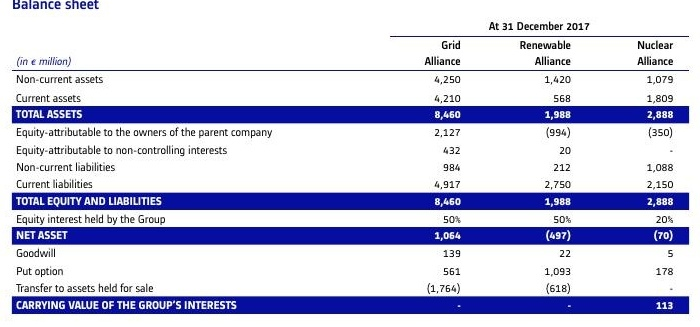table: (0, 0, 700, 327)
